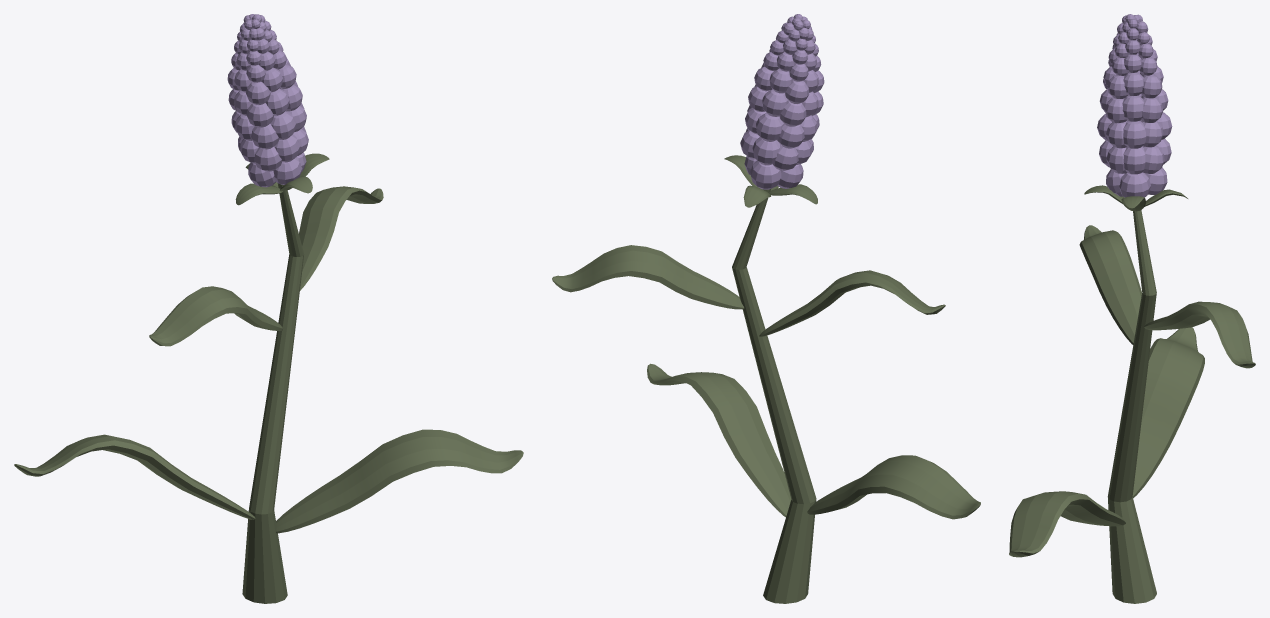
File: catnip.fbx
The picture shows the model from 3 angles, left to right: view 1: azimuth 30°, elevation 25°; view 2: azimuth 150°, elevation 25°; view 3: azimuth 270°, elevation 25°; orthographic projection.
Visible parts, largest first — view 1: polySurface367; view 2: polySurface367; view 3: polySurface367.
Part boxes in pixels (box(x1,y1,x2,y2)): polySurface367: box(14, 14, 523, 603); polySurface367: box(552, 14, 980, 603); polySurface367: box(1009, 14, 1255, 603).
Bounding box in the file's own units: 18.46 × 9.56 × 24.57.
